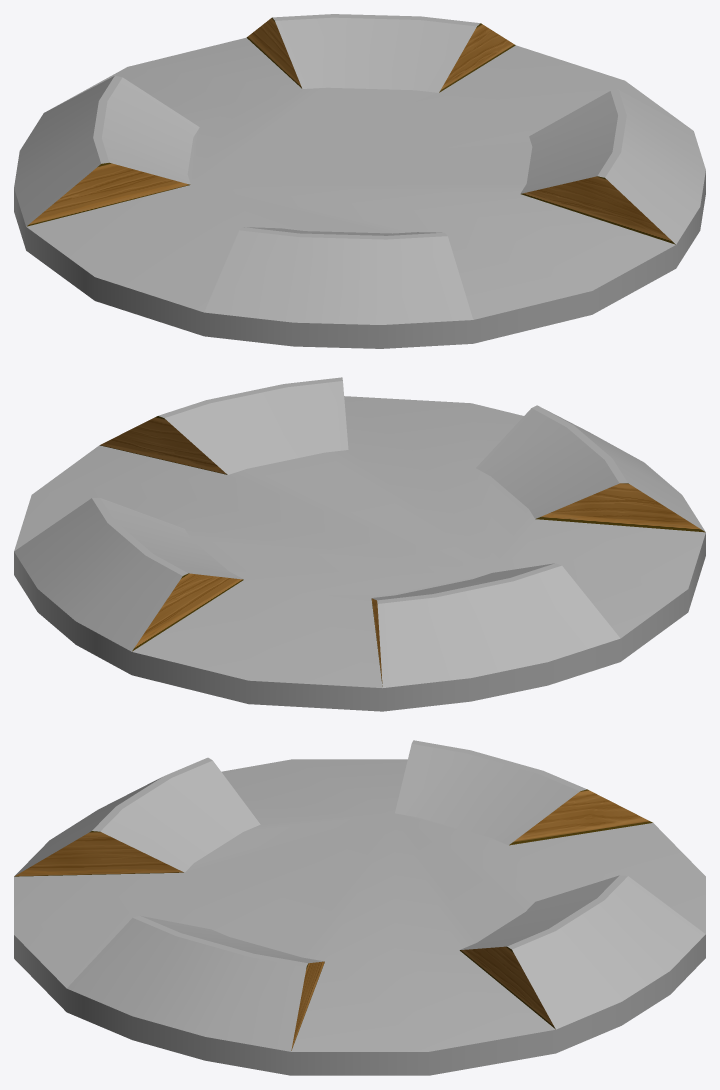
The model's file is slippyTourniquet.fbx.
The picture shows the model from 3 angles, top to bottom: view 1: azimuth 30°, elevation 25°; view 2: azimuth 150°, elevation 25°; view 3: azimuth 270°, elevation 25°; orthographic projection.
Visible parts, largest first — view 1: slippyTourniquet; view 2: slippyTourniquet; view 3: slippyTourniquet.
Boxes of the visible parts, <box> form: slippyTourniquet: <box>14,14,705,348</box>; slippyTourniquet: <box>14,377,705,711</box>; slippyTourniquet: <box>14,740,705,1075</box>.
Size of what is drawn, in the model's own units: 52.64 by 52.64 by 6.38.
